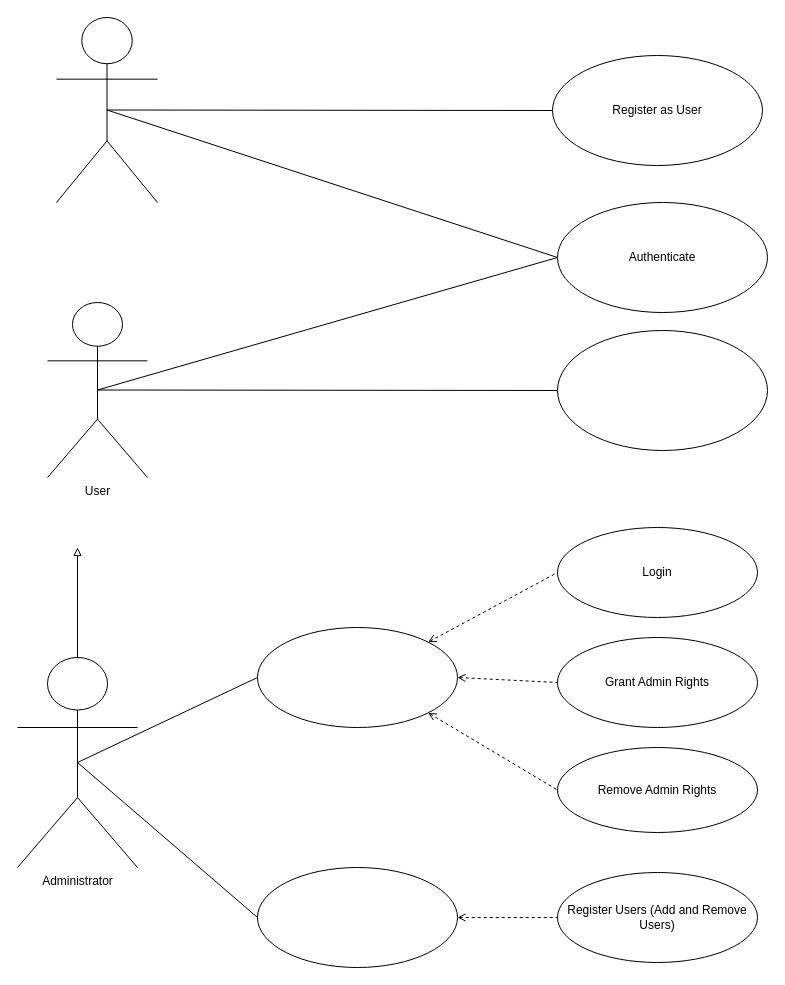
Image size: 785x985. Some labels were removed from this diagram. The centre of each missing label's shape, as x and y in pixels:
Creat, Read, Update, Delete Profile (CRUD) information: (662,390)
Guest: (107,109)
Manage access rights and permissions: (357,677)
Manage User Information: (357,917)
